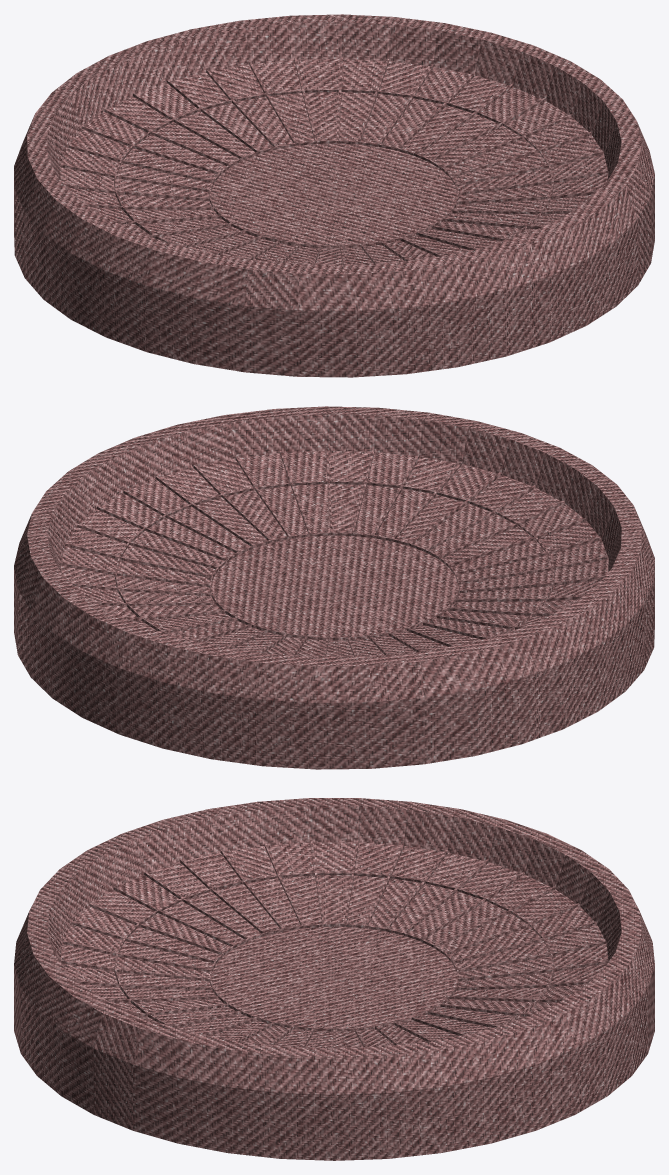
Rendered from Ruleta.fbx.
The picture shows the model from 3 angles, top to bottom: view 1: azimuth 30°, elevation 25°; view 2: azimuth 150°, elevation 25°; view 3: azimuth 270°, elevation 25°; orthographic projection.
Parts seen in each view (by area): view 1: Cylinder001; view 2: Cylinder001; view 3: Cylinder001.
Boxes of the visible parts, box(x1,y1,x2,y2) form: Cylinder001: box(14, 14, 654, 377); Cylinder001: box(14, 406, 654, 769); Cylinder001: box(14, 798, 654, 1160).
Size of the model in its own units: 138 by 23.39 by 138.
